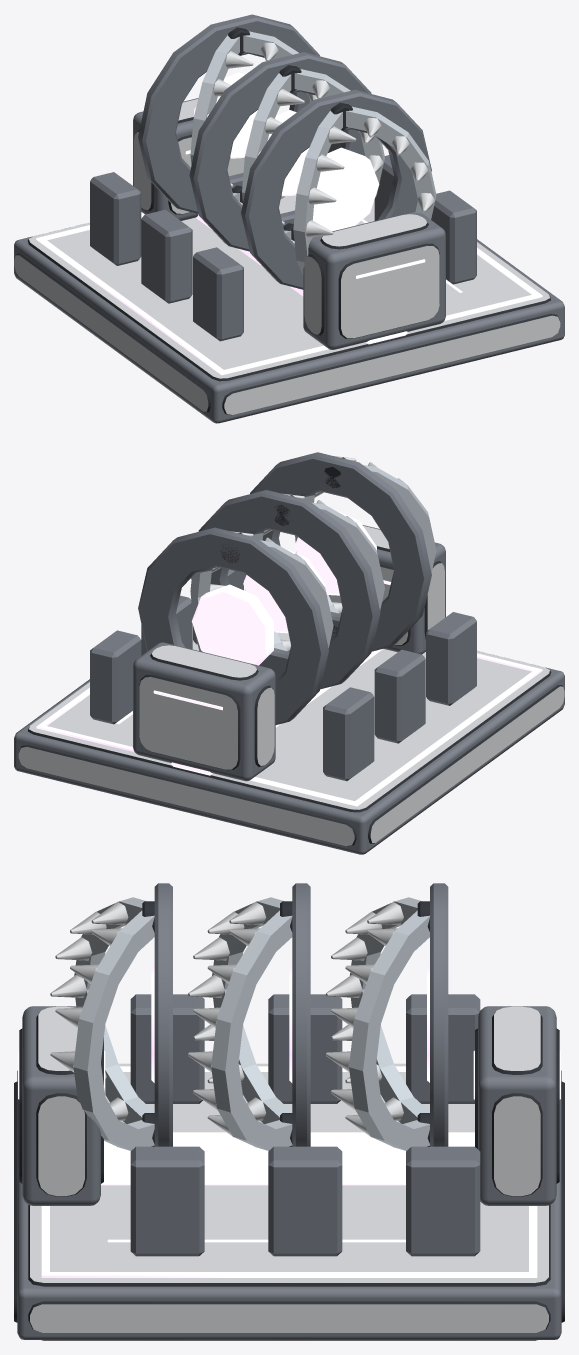
Rendered from R4X_SnareTrapDeployer.fbx.
3 renders of one model, top to bottom at view 1: azimuth 30°, elevation 25°; view 2: azimuth 150°, elevation 25°; view 3: azimuth 270°, elevation 25°, orthographic. The views are drawn at different scales.
Parts seen in each view (by area): view 1: R4X_SnareTrapDeployer_Body, R4X_SnareTrapDeployer_Payload; view 2: R4X_SnareTrapDeployer_Body, R4X_SnareTrapDeployer_Payload; view 3: R4X_SnareTrapDeployer_Body, R4X_SnareTrapDeployer_Payload.
Part boxes in pixels (left/top/right/bottom): R4X_SnareTrapDeployer_Body: left=14, top=98, right=564, bottom=423; R4X_SnareTrapDeployer_Payload: left=138, top=14, right=436, bottom=289; R4X_SnareTrapDeployer_Body: left=14, top=525, right=564, bottom=854; R4X_SnareTrapDeployer_Payload: left=138, top=452, right=436, bottom=724; R4X_SnareTrapDeployer_Body: left=14, top=994, right=564, bottom=1340; R4X_SnareTrapDeployer_Payload: left=50, top=883, right=448, bottom=1150.
Size of the model in its own units: 0.52 by 0.3479 by 0.52.
